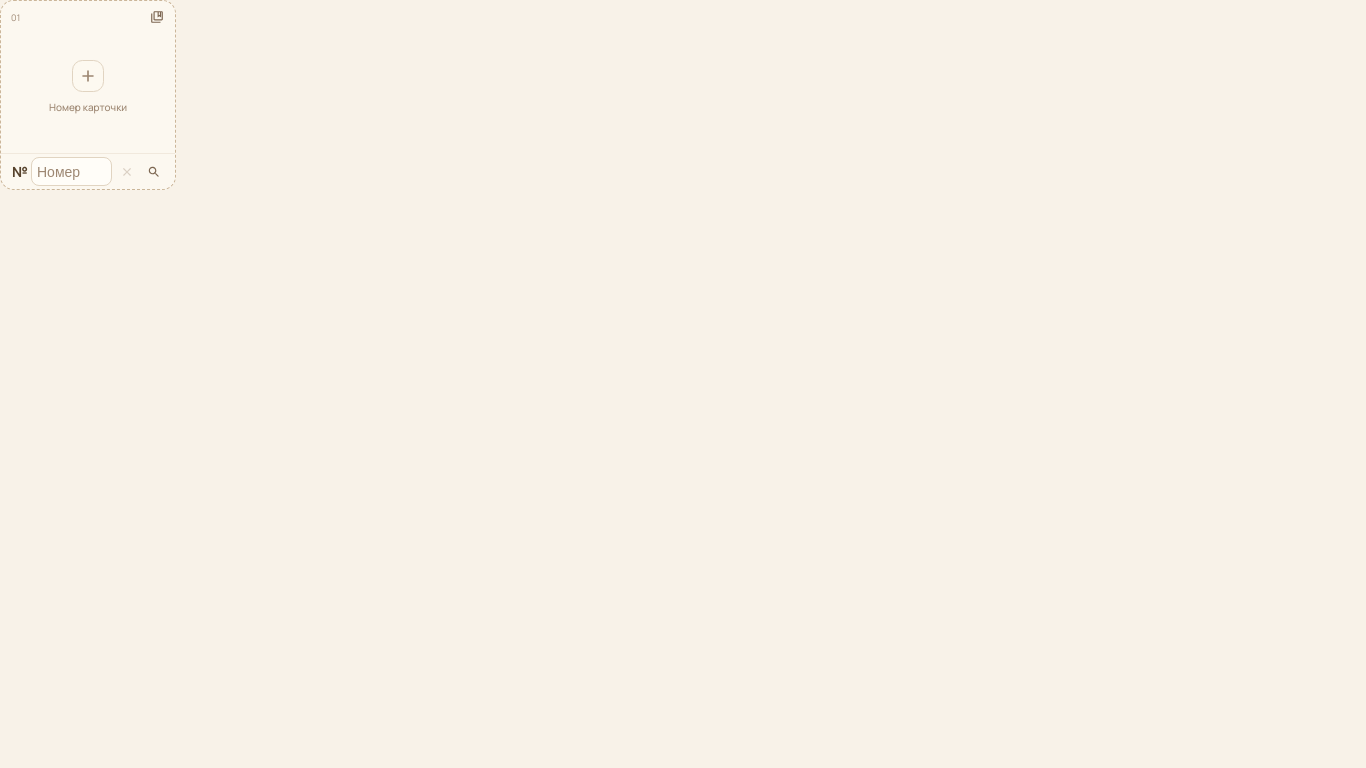
Test case: the group action is available for an empty cell and an existing group can become one card
The width and height of the screenshot is (1366, 768).
Click the button with class "sw-coedit-group-button": [157, 17] box [145,5,169,29]
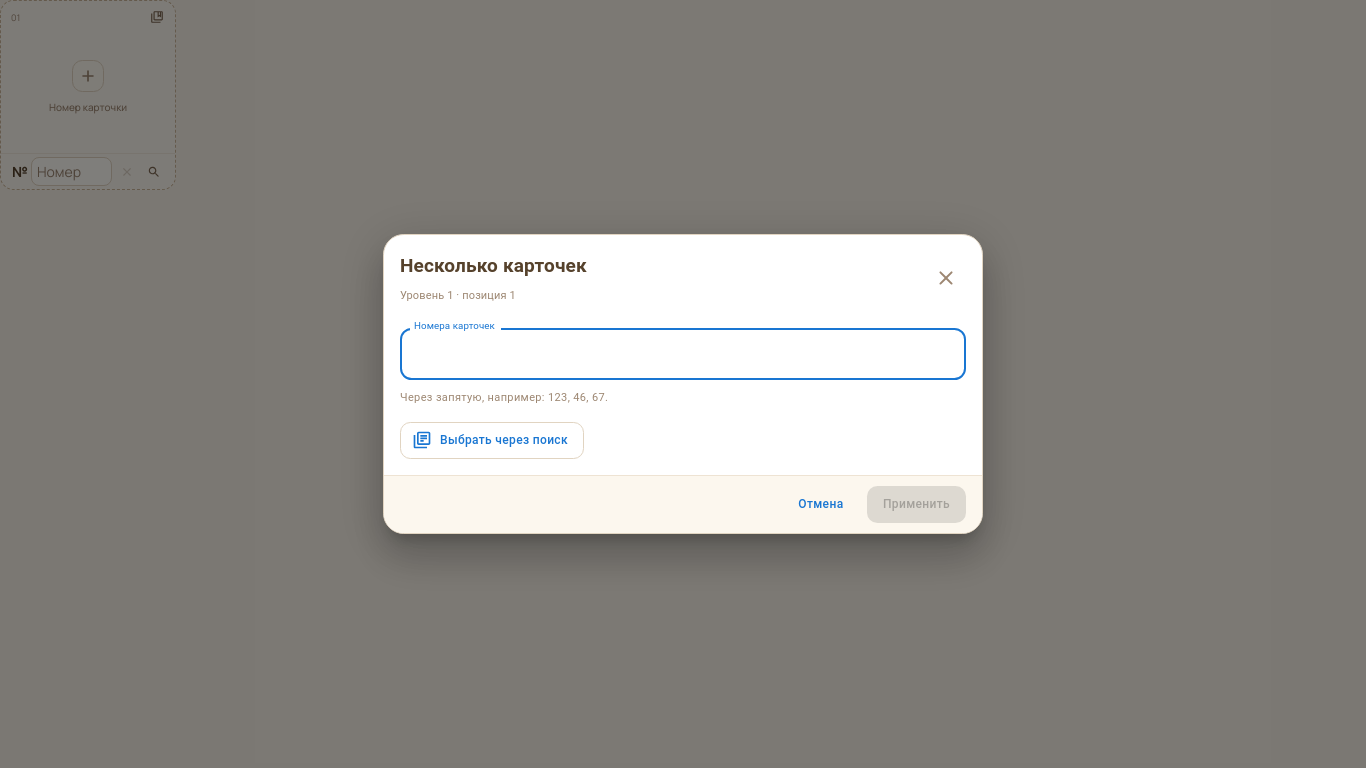
In the field labelled "Номера карточек": [683, 354] box [400,328,966,380], type "812, 813"
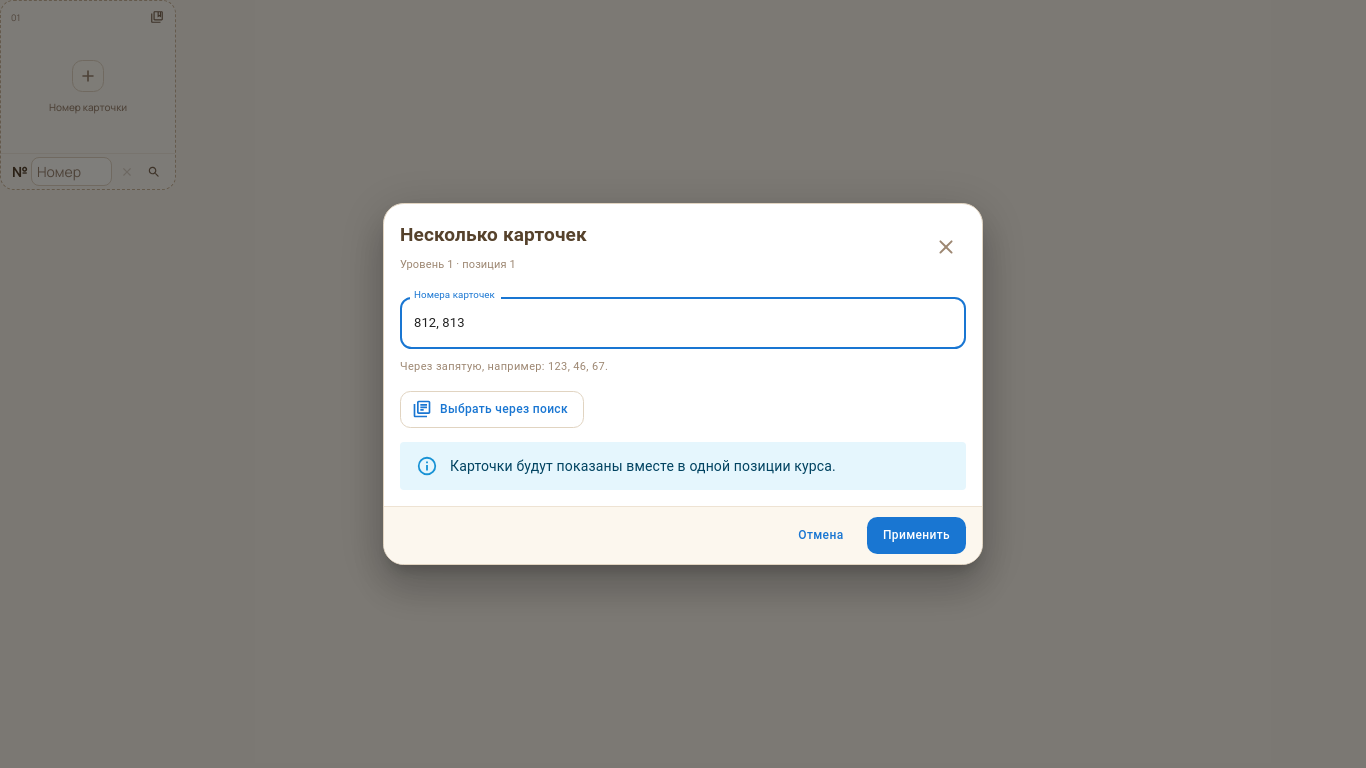
Check: the button "Применить" is shown
Click the button "Применить": [916, 535] box [867,517,966,554]
Wait 300 ms
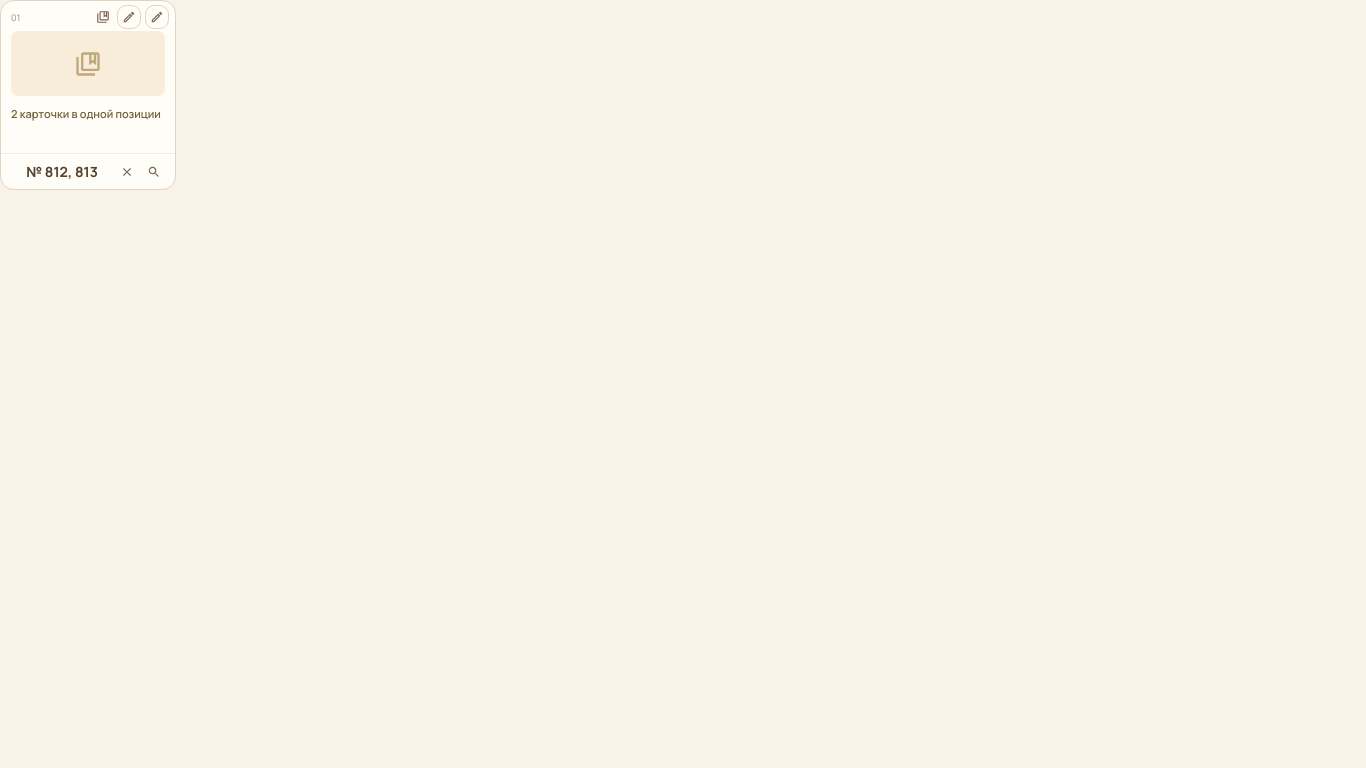
Click the button with class "sw-coedit-group-ids": [62, 172] box [12,157,112,186]
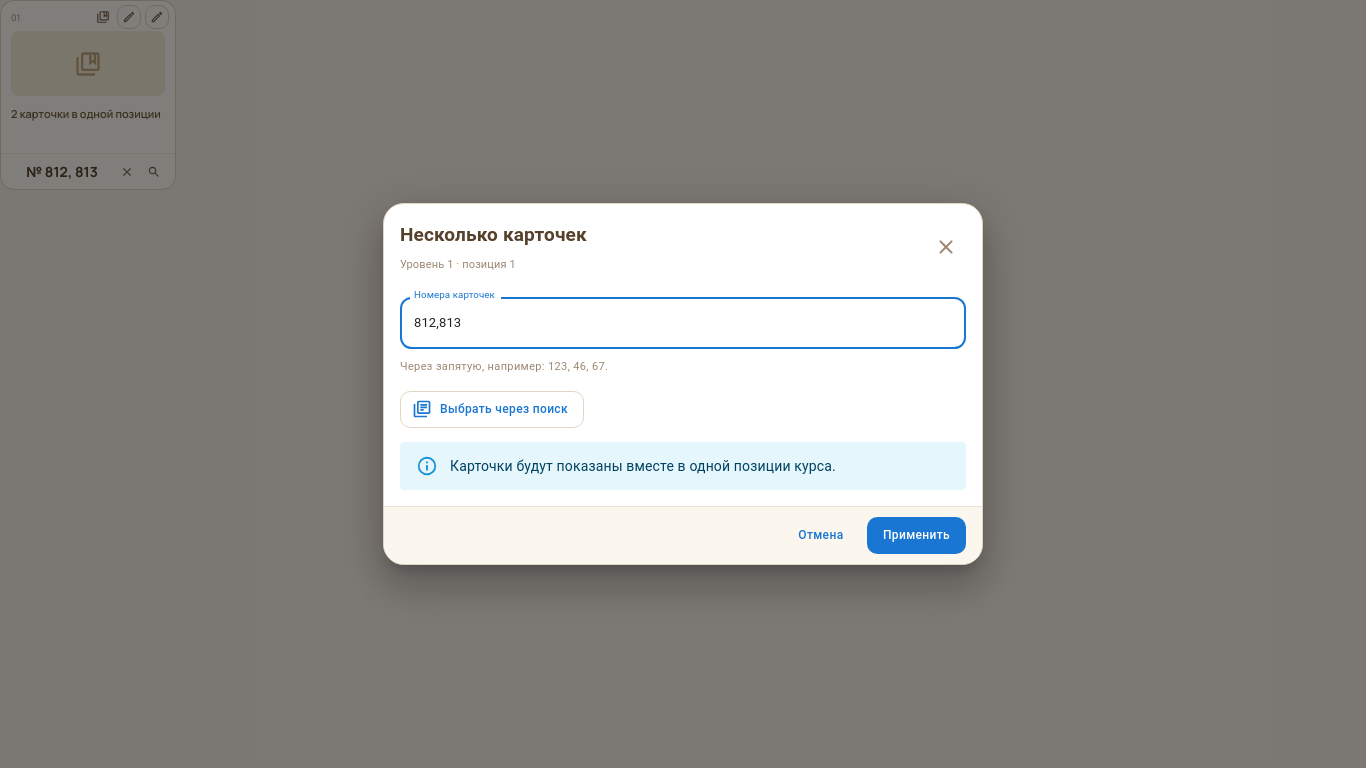
Replace the text in the field labelled "Номера карточек" with "814": [683, 323] box [400,297,966,349]
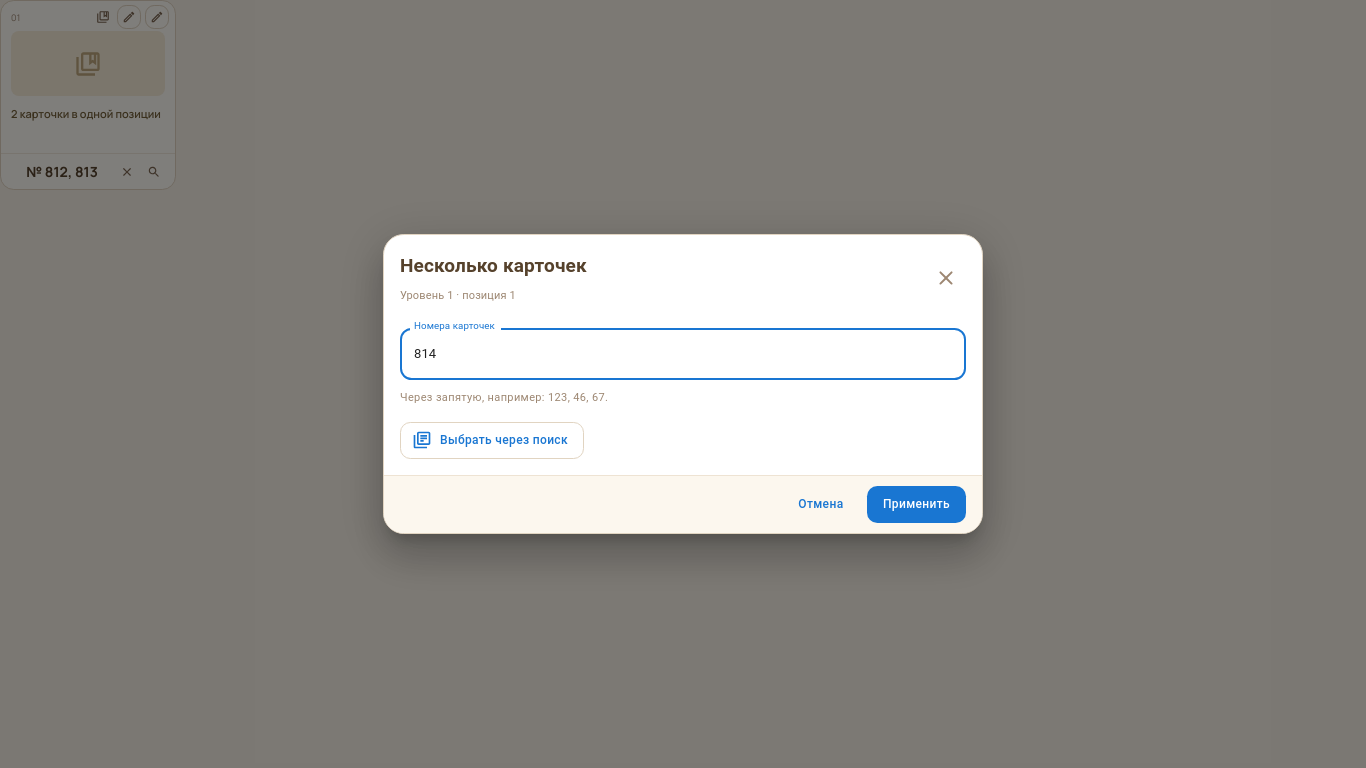
Check: the button "Применить" is shown
Click the button "Применить": [916, 504] box [867,486,966,523]
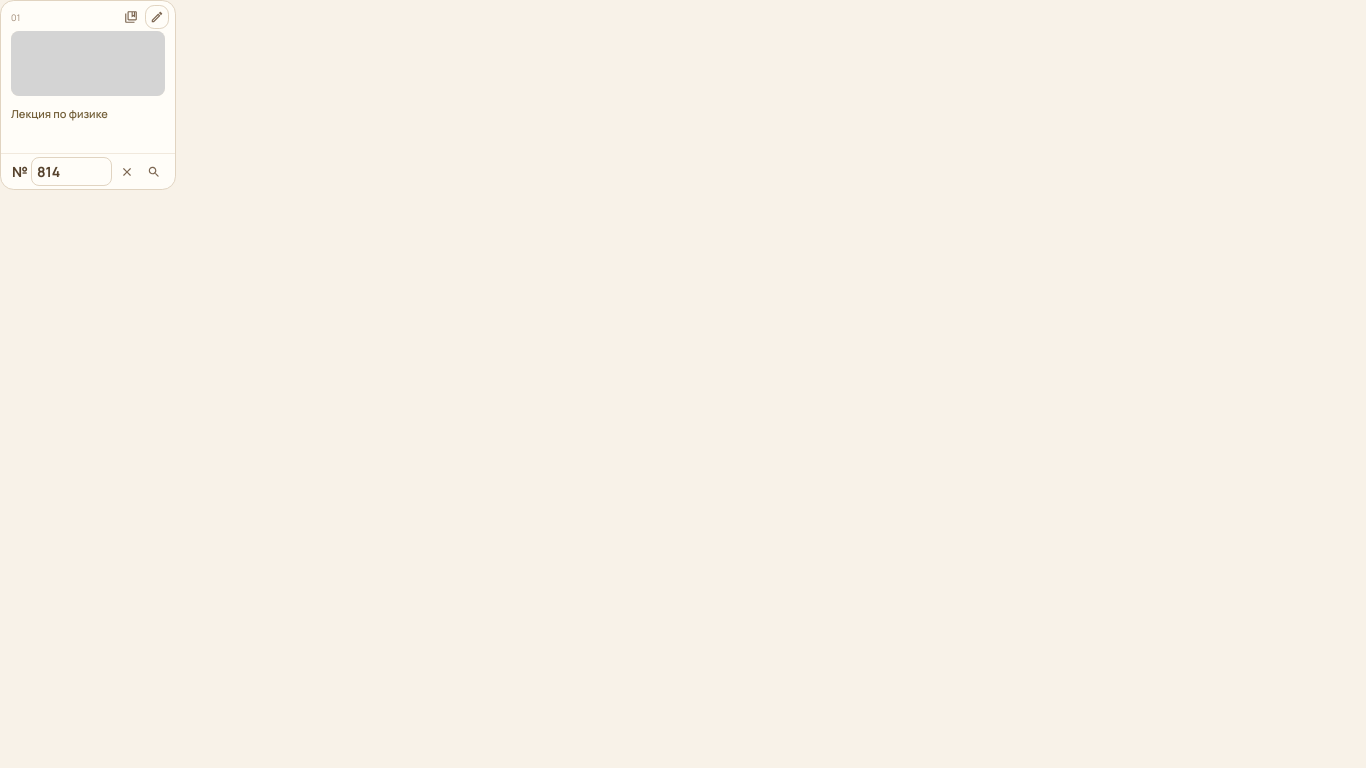
Check: the field labelled "№" holds "814", box [31,157,112,186]
